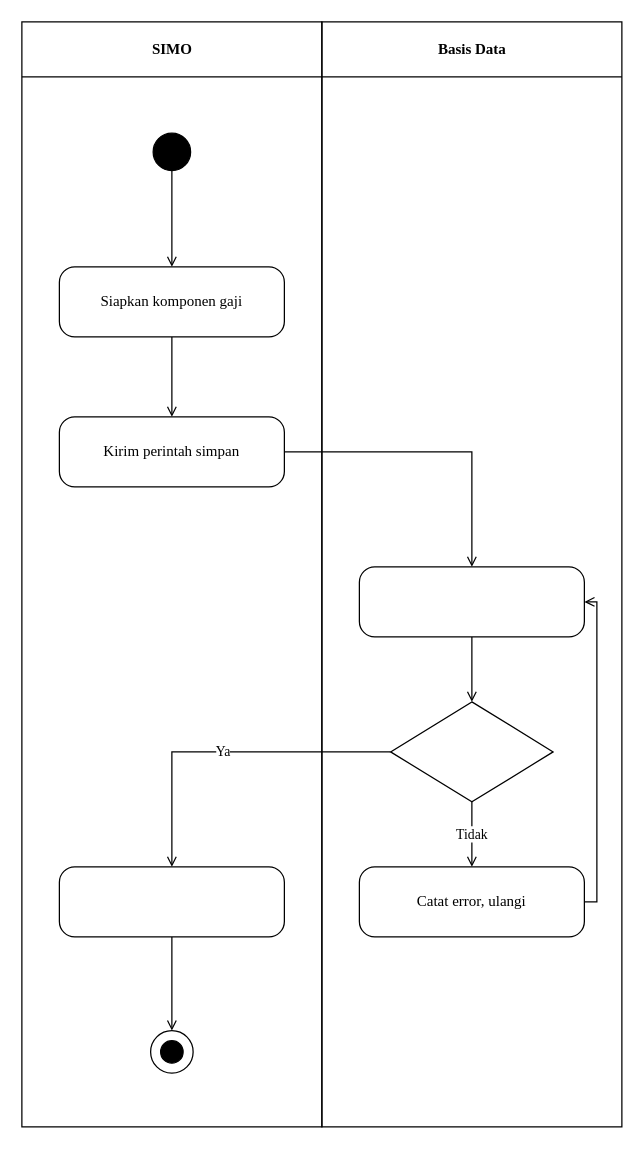
Image size: 644x1149. Some labels were removed from this diagram. The shapes that lost their labels are listed below. From the top down, each one's centre as x and y in pixels, then its label:
the point at 471,601: Tulis dan indeks data
the point at 471,751: Berhasil?
the point at 171,901: Terima konfirmasi
